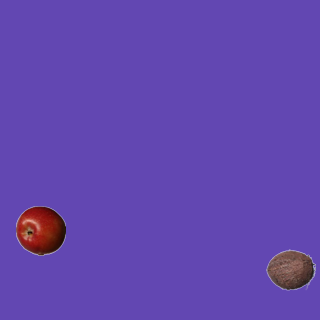Apple Braeburn: (15, 205, 65, 255)
Cocos: (265, 244, 315, 294)
